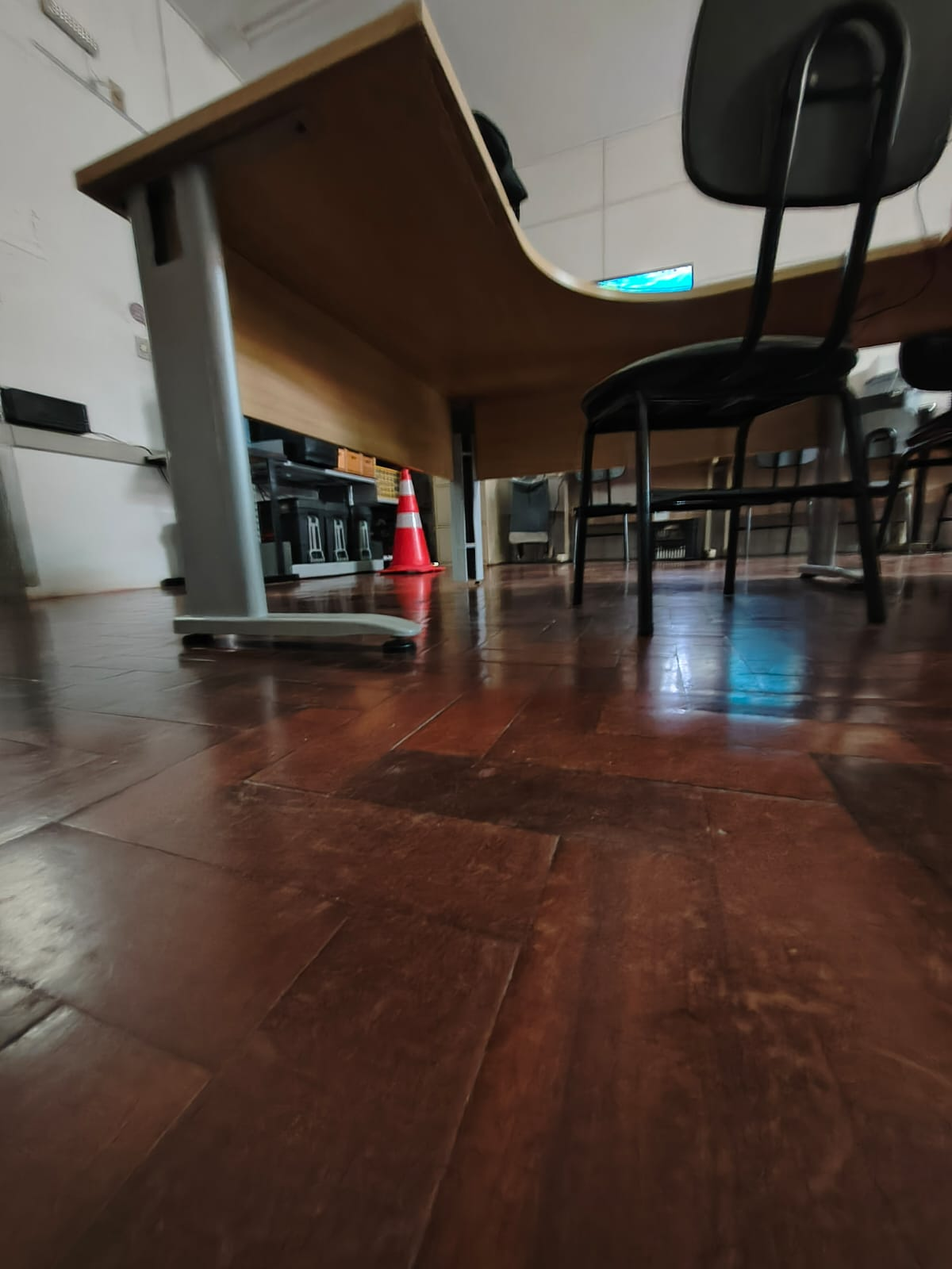cone: (386, 458, 440, 578)
